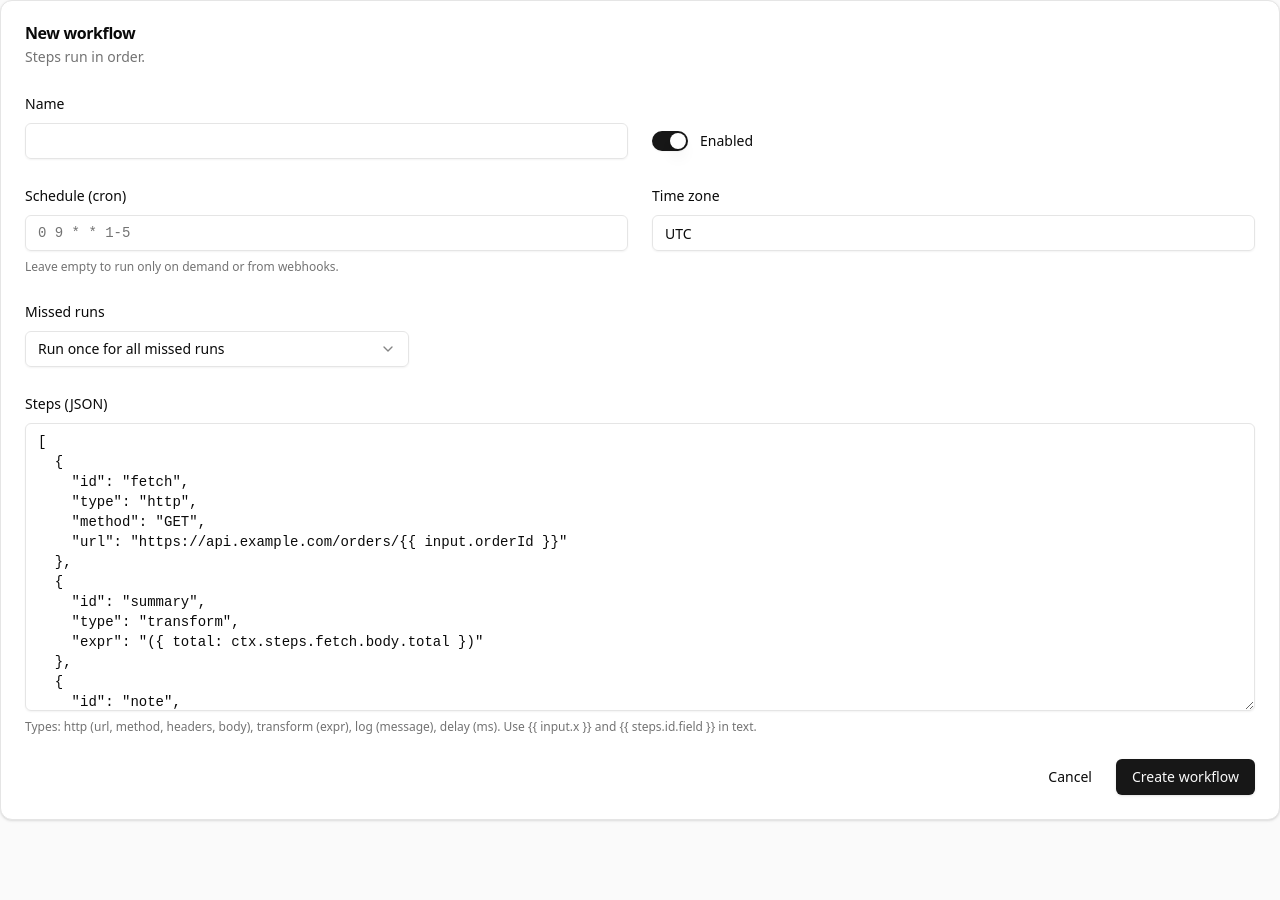
WorkflowForm › shows the errors of the API next to the fields they belong to
Type "Orders" into the field labelled "Name".
click(326, 141); type("Orders")  # box [25,123,628,159]
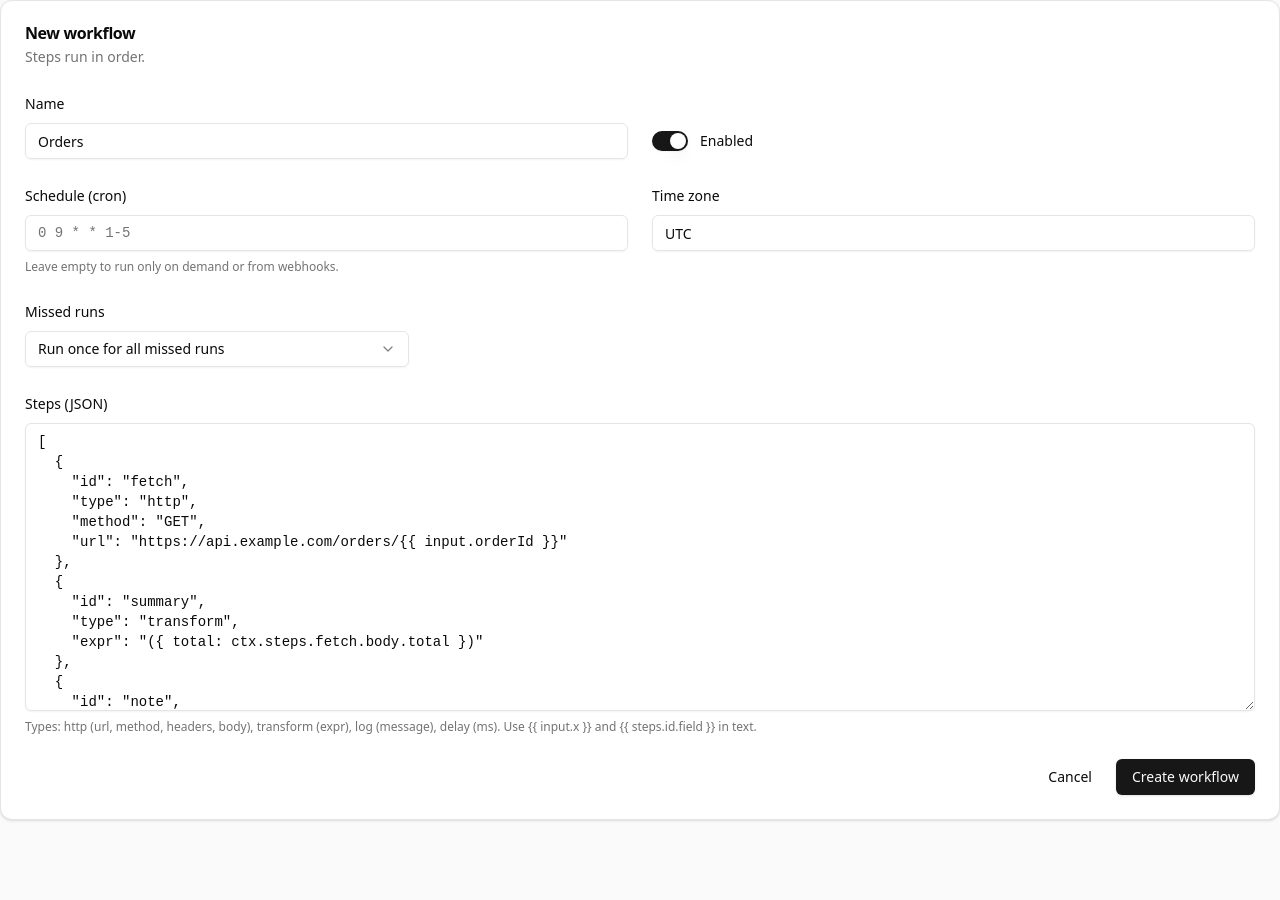
Type "61 9 * * *" into the field labelled "Schedule (cron)".
click(326, 233); type("61 9 * * *")  # box [25,215,628,251]
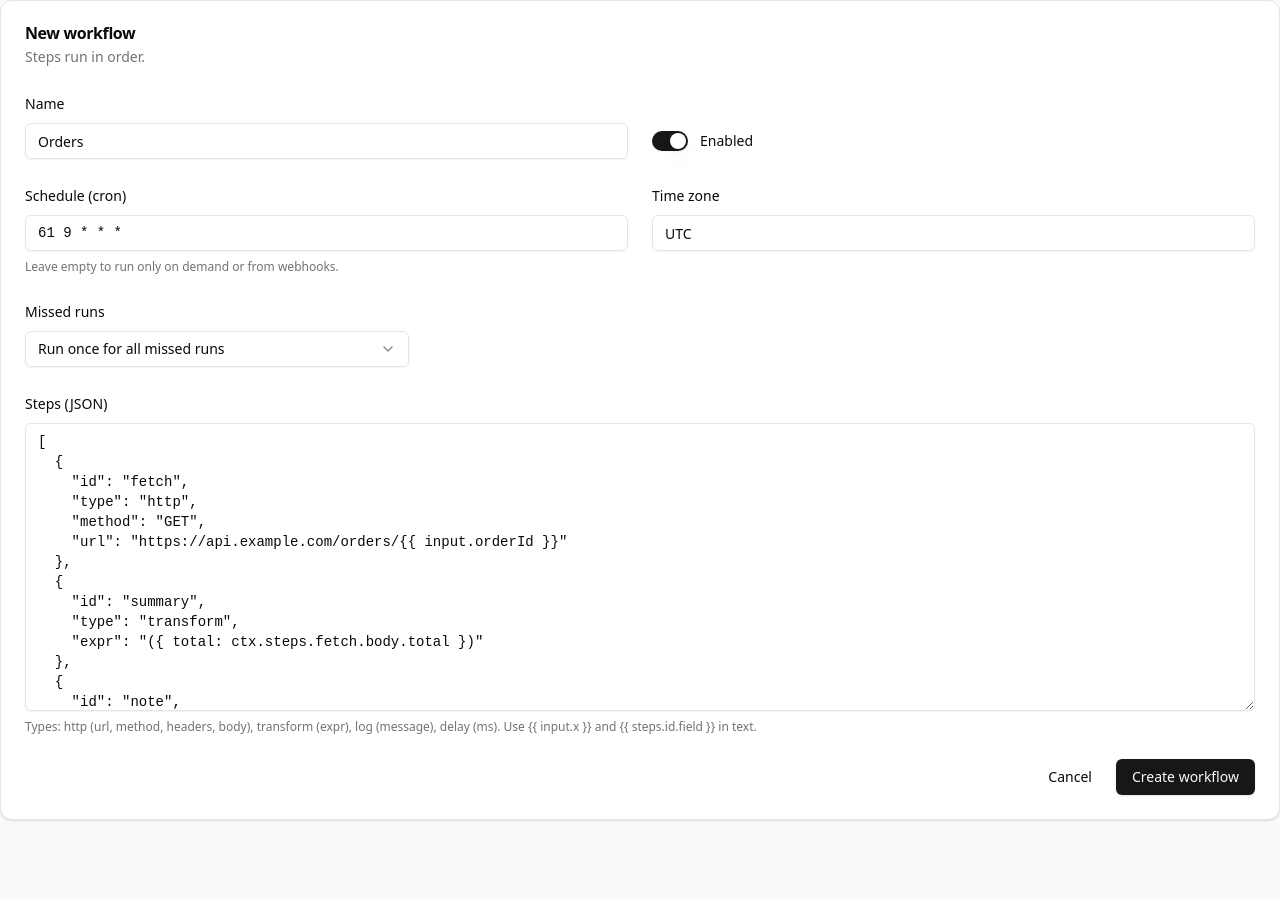
Click the button "Create workflow".
click(1186, 777)  # box [1116,759,1255,795]
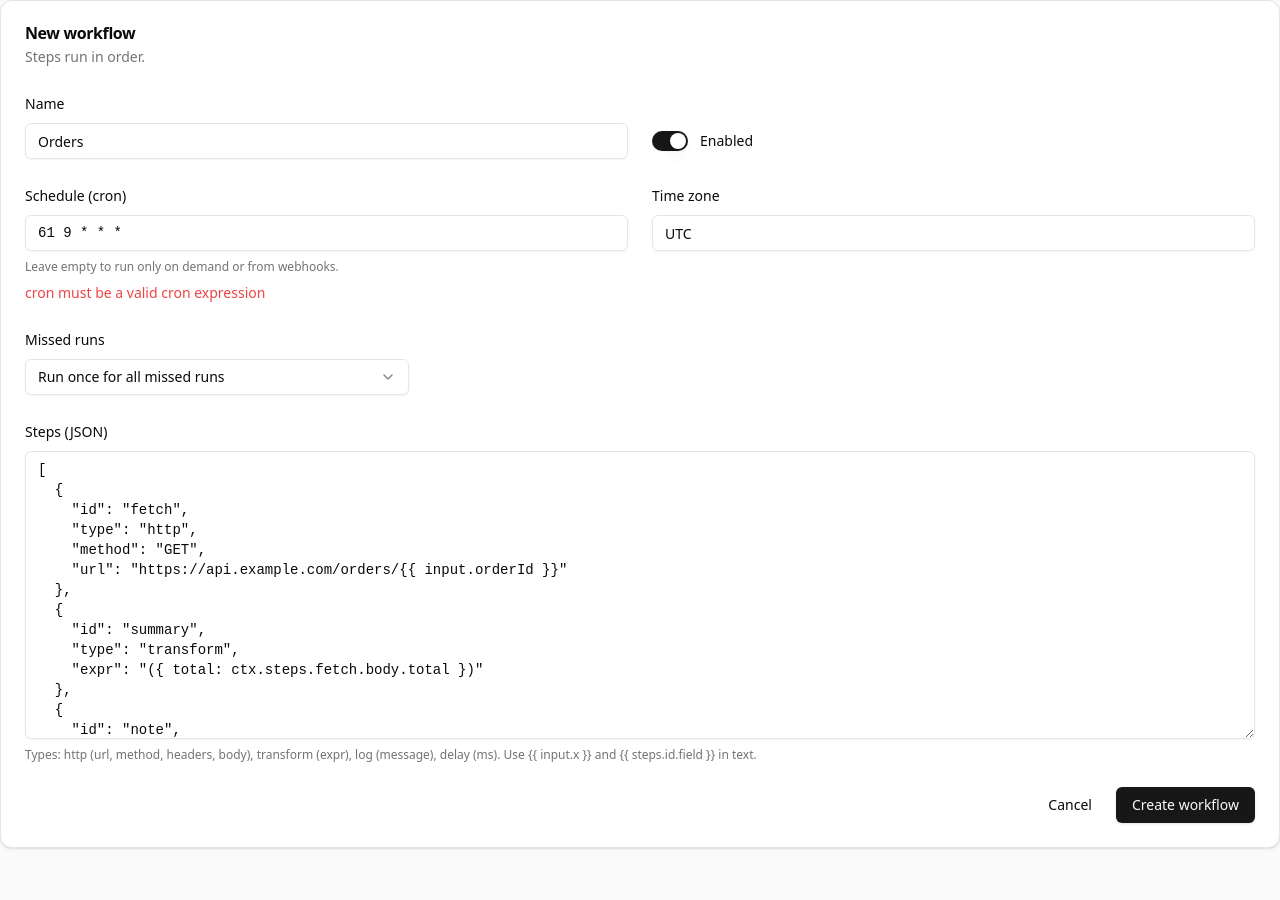
Expected: the button "Create workflow" is enabled, [1116,787,1255,823]
Expected: the text "cron must be a valid cron expression" is shown, [25,283,265,302]
